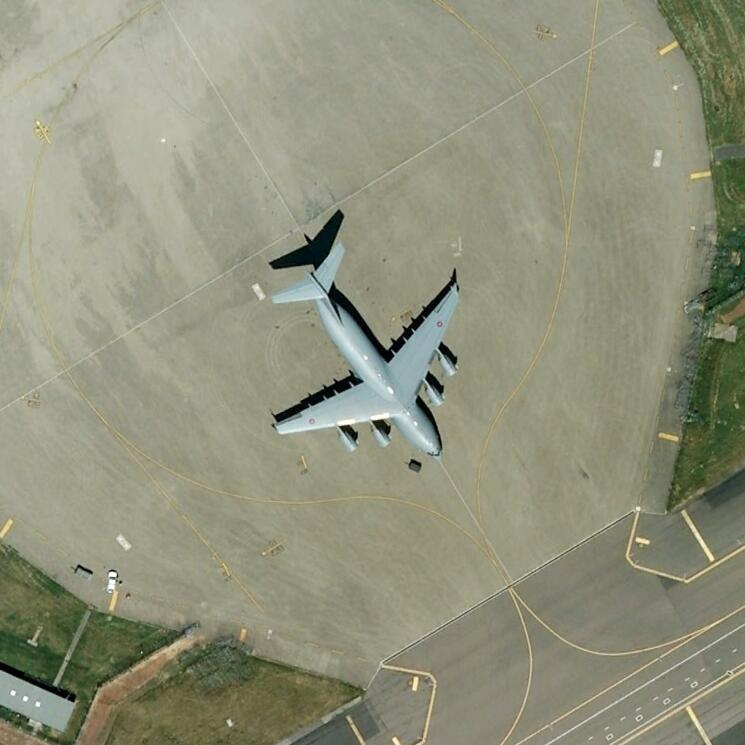A3: (263, 241, 475, 459)
